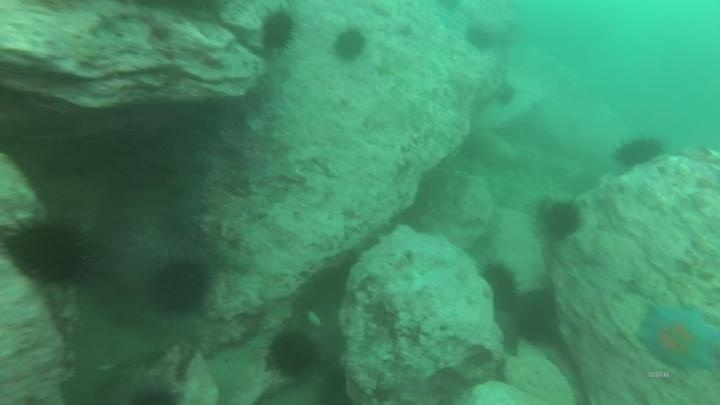echinus: (5, 216, 97, 289), (147, 255, 213, 317), (264, 326, 320, 380), (513, 289, 561, 347), (538, 198, 585, 242), (477, 259, 520, 307), (612, 133, 666, 171), (258, 7, 299, 55), (330, 25, 369, 64), (315, 367, 353, 405), (117, 383, 171, 405), (463, 24, 496, 54), (491, 81, 519, 110)
holothurian: (491, 305, 524, 357)
starfish: (636, 302, 719, 374)
